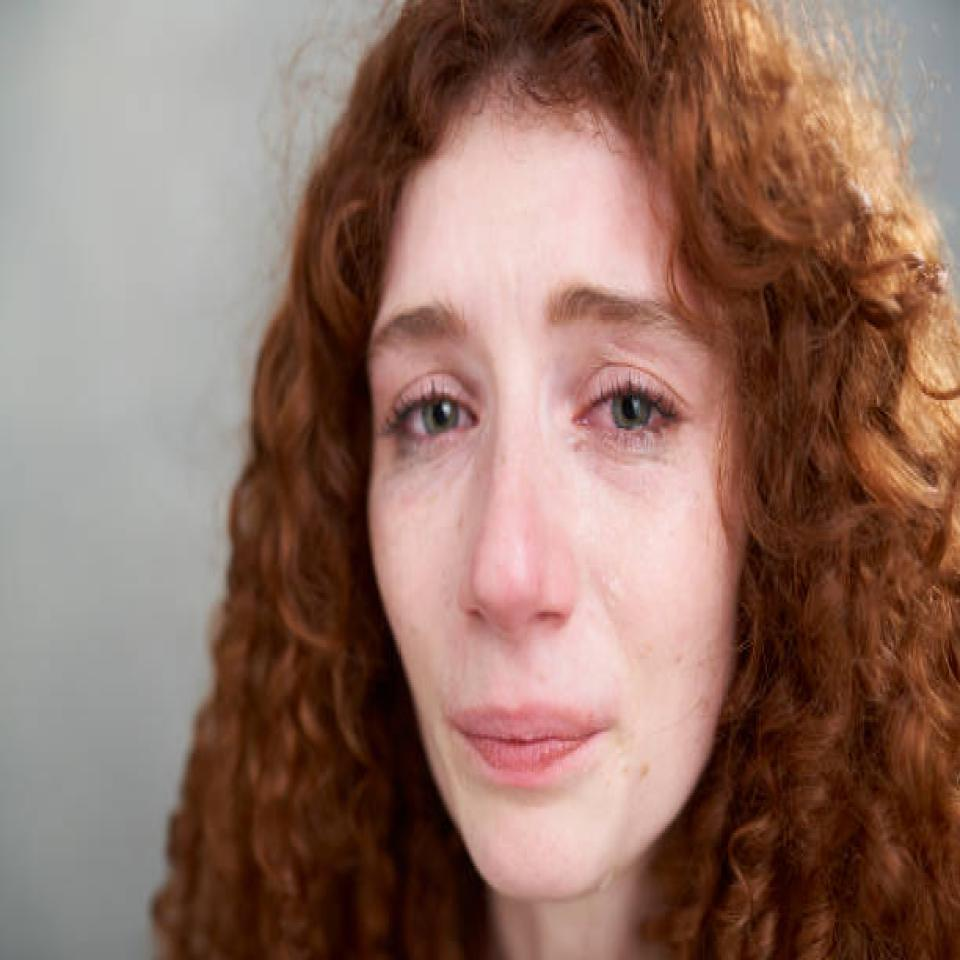Sadness: (375, 132, 736, 898)
